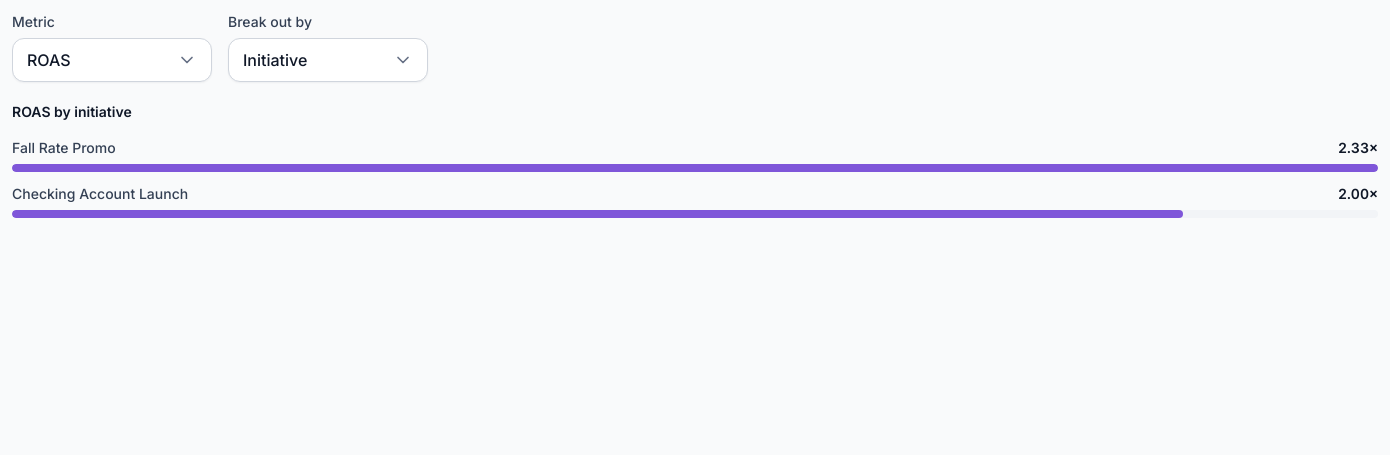
Test case: MetricChart › uses a time series chart for day breakout
Click the button "Initiative" at (328, 60), box [228,38,428,82]
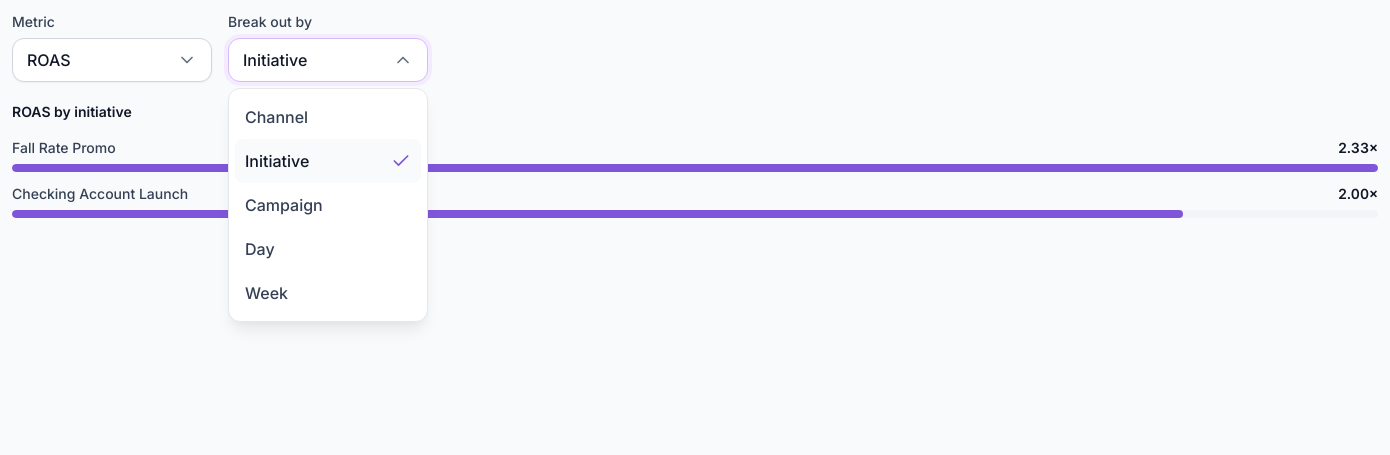
Click the option "Day" at (328, 249), box [235,227,421,271]
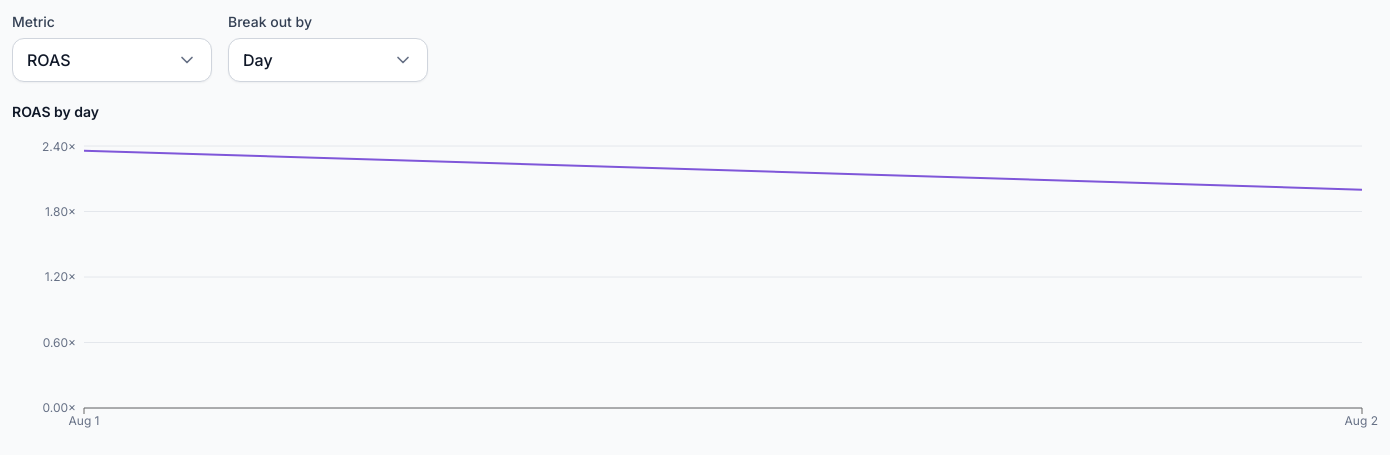
expect the heading "ROAS by day" is shown: met, box [12,103,99,120]
expect the element with class "recharts-responsive-container" is shown: met
